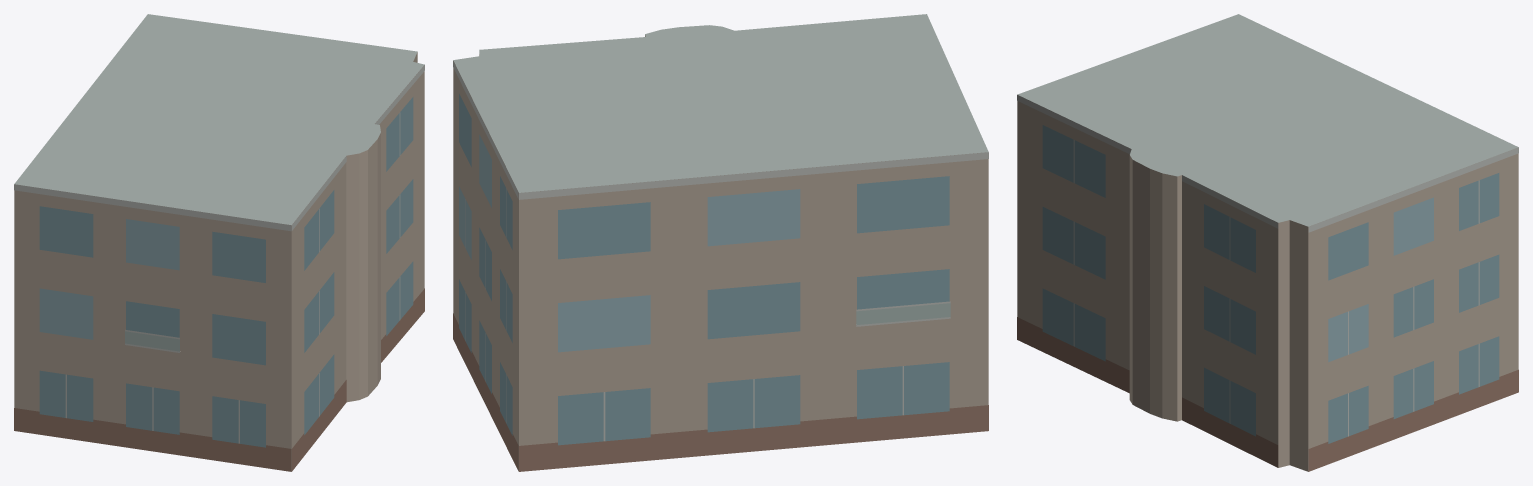
File: survey-upis-32560354.glb
3 renders of one model, left to right at view 1: azimuth 30°, elevation 25°; view 2: azimuth 150°, elevation 25°; view 3: azimuth 270°, elevation 25°, orthographic. The views are drawn at different scales.
Parts seen in each view (by area): view 1: survey-upis-32560354.tmp; view 2: survey-upis-32560354.tmp; view 3: survey-upis-32560354.tmp.
Boxes of the visible parts, x1,y1,x2,y2 form: survey-upis-32560354.tmp: [14, 14, 424, 471]; survey-upis-32560354.tmp: [453, 14, 988, 471]; survey-upis-32560354.tmp: [1017, 14, 1518, 471].
Bounding box in the file's own units: 18.24 × 9.8 × 18.18.
